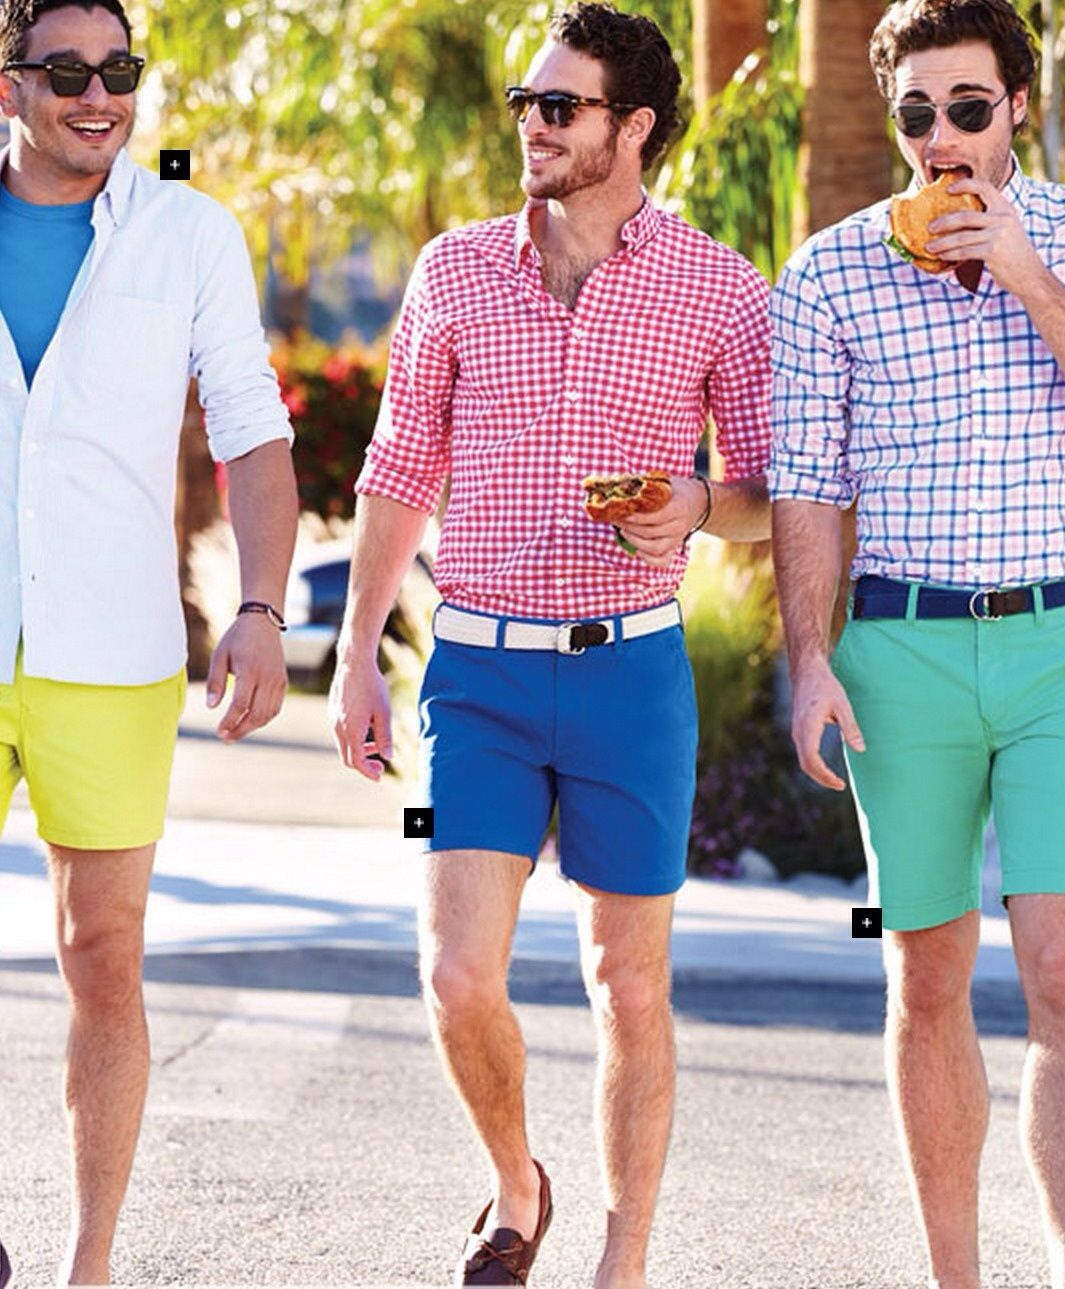Person: (329, 4, 767, 1289), (770, 1, 1065, 1289), (2, 2, 298, 1289)
